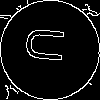U: (25, 25, 74, 65)
